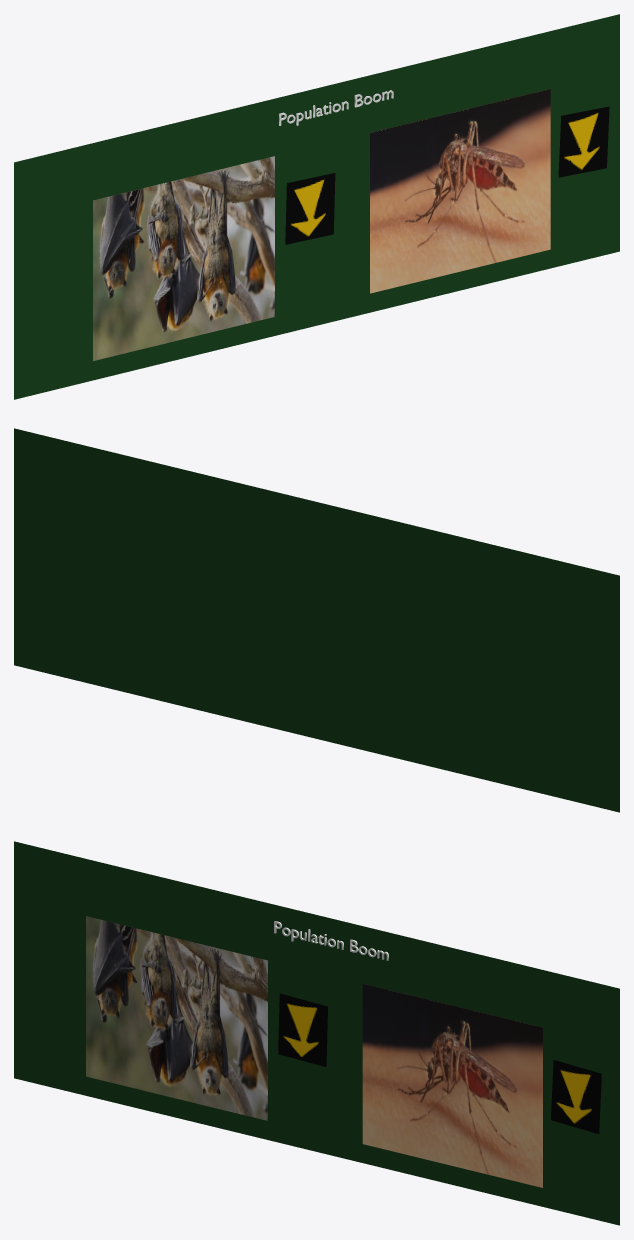
File: cons2.gltf
3 renders of one model, top to bottom at view 1: azimuth 30°, elevation 25°; view 2: azimuth 150°, elevation 25°; view 3: azimuth 330°, elevation 25°, orthographic.
Parts seen in each view (by area): view 1: Plane.013, Plane, Plane.002, Plane.001, Plane.003, Text.008; view 2: Plane.013; view 3: Plane.013, Plane, Plane.002, Plane.003, Plane.001, Text.008.
Part boxes in pixels (x1,y1,x2,y2): Plane.013: [14, 14, 619, 399]; Plane: [93, 156, 274, 360]; Plane.002: [370, 89, 550, 293]; Plane.001: [285, 173, 335, 244]; Plane.003: [558, 106, 609, 177]; Text.008: [279, 90, 393, 125]; Plane.013: [14, 428, 619, 812]; Plane.013: [14, 841, 619, 1225]; Plane: [86, 916, 267, 1120]; Plane.002: [362, 983, 542, 1187]; Plane.003: [551, 1060, 601, 1133]; Plane.001: [278, 993, 327, 1067]; Text.008: [274, 921, 388, 960].
Bounding box in the file's own units: 15.94 × 5.96 × 0.1767.
Materials: 6 (4 with a texture image).
